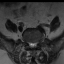CCS_stenosis: (31, 39, 34, 50)
LFS_normal: (36, 38, 39, 45)
LLS_normal: (34, 39, 36, 49)
RFS_stenosis: (26, 37, 28, 45)
RLS_normal: (28, 39, 31, 49)
